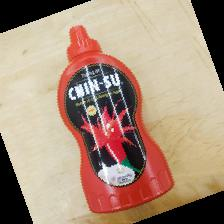Chinsu: (56, 24, 175, 215)
